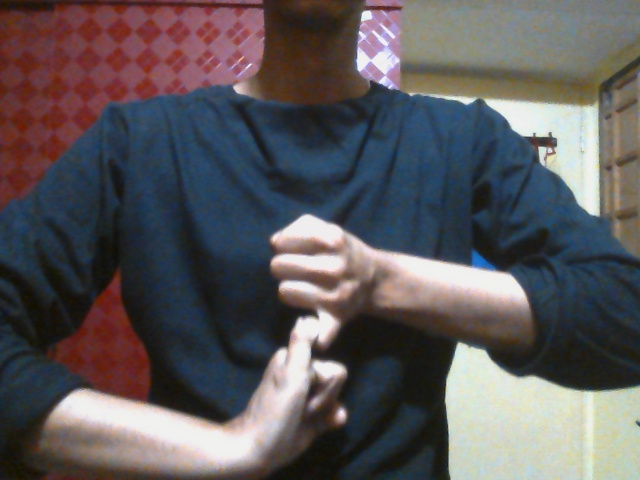S: (245, 212, 371, 479)
